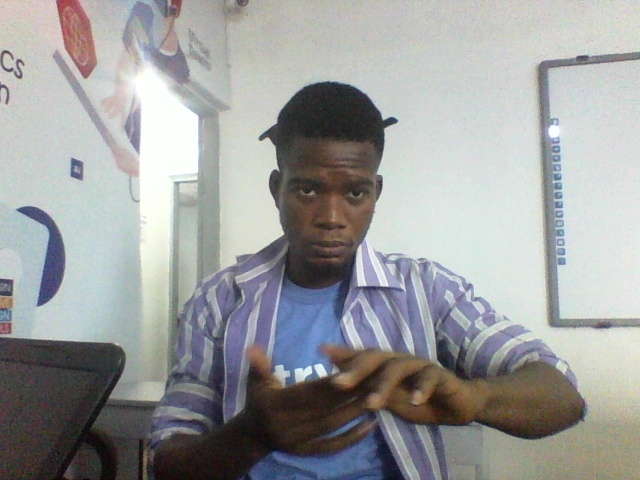nice_to_meet_you: (224, 341, 536, 467)
